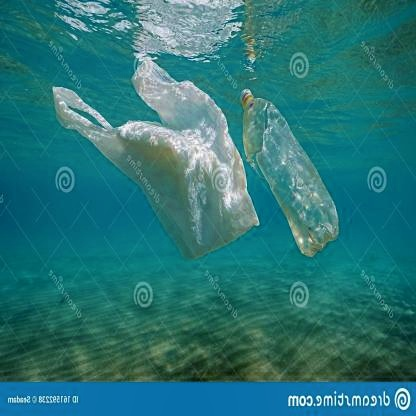pbag: (44, 55, 264, 264)
pbottle: (238, 82, 344, 258)
